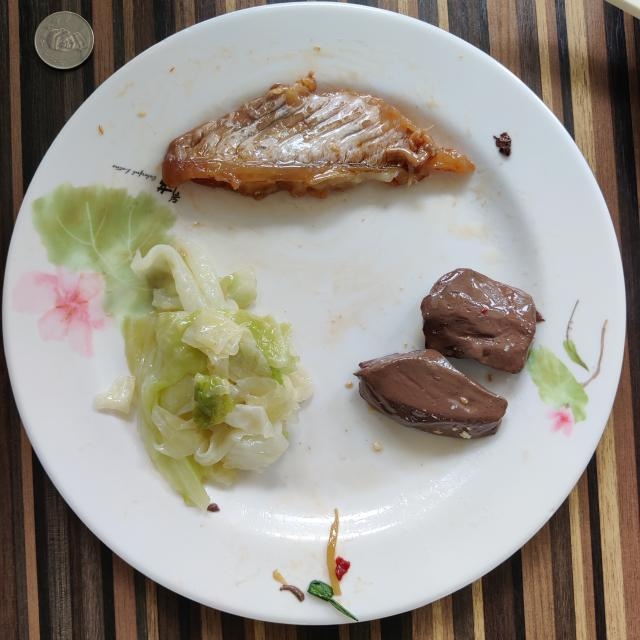Kabayaki sea bream fillet: (162, 72, 474, 199)
cabbage: (95, 239, 314, 510)
coin: (35, 11, 94, 69)
pig blood curd: (355, 269, 544, 439)
